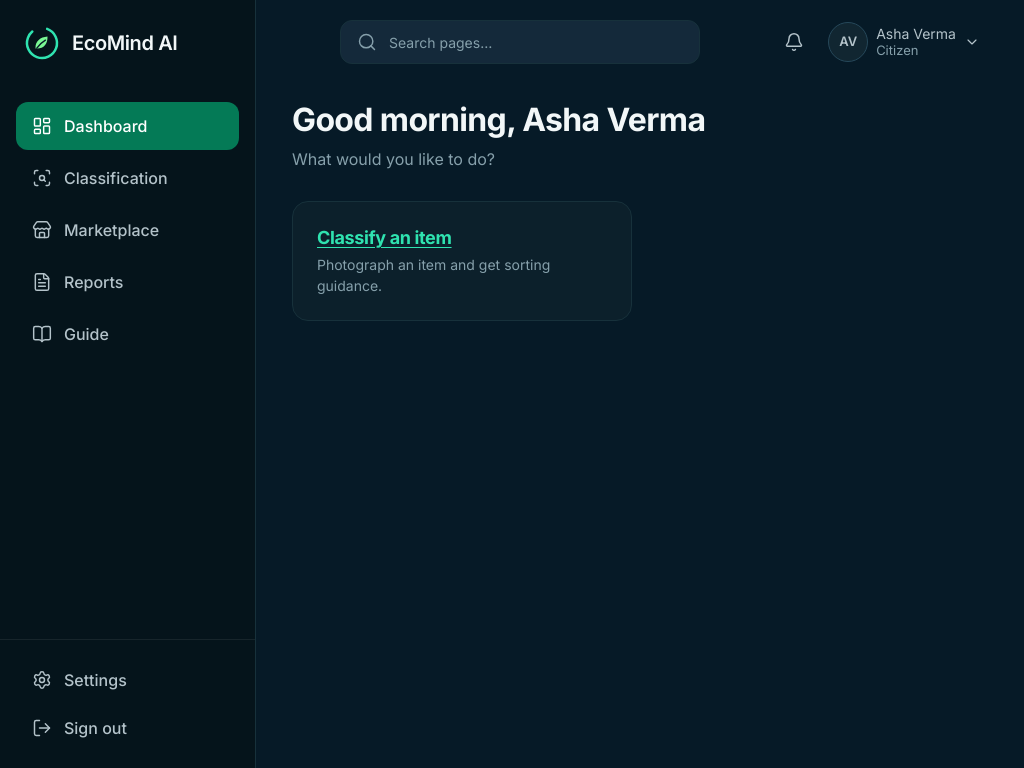
Scenario: application navigation › page search reports when nothing matches
Click the button "Search pages…": (441,42) [340,20,700,64]
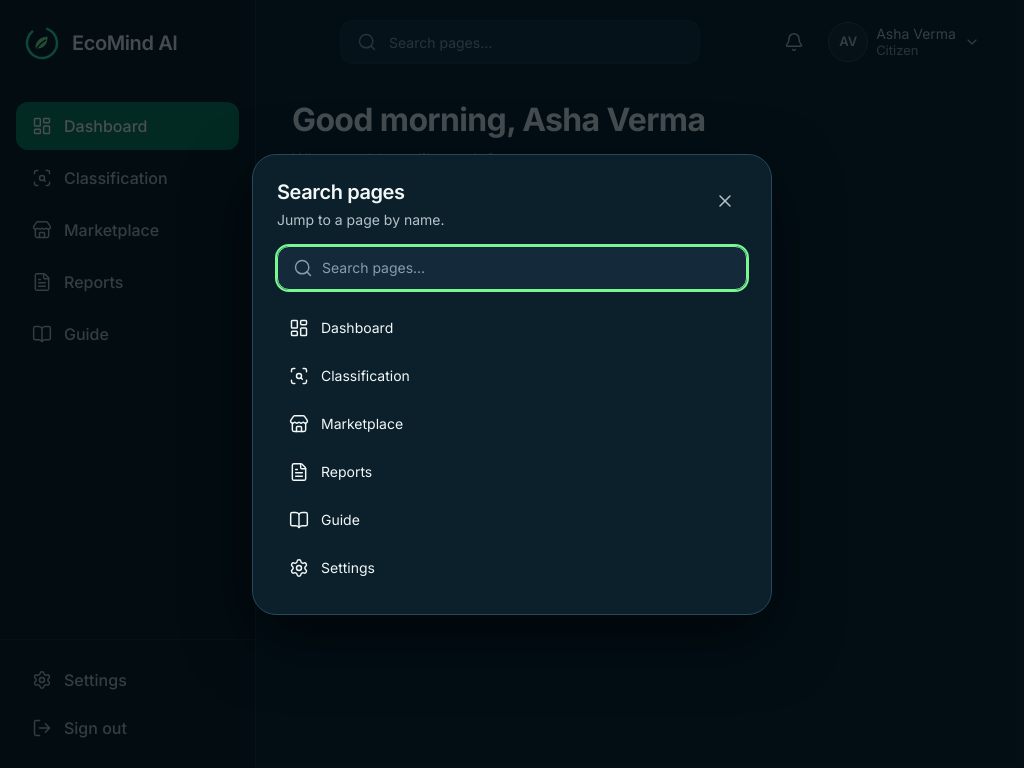
In the search field named "Page name": (512,268) [277,246,747,290], type "zzz"
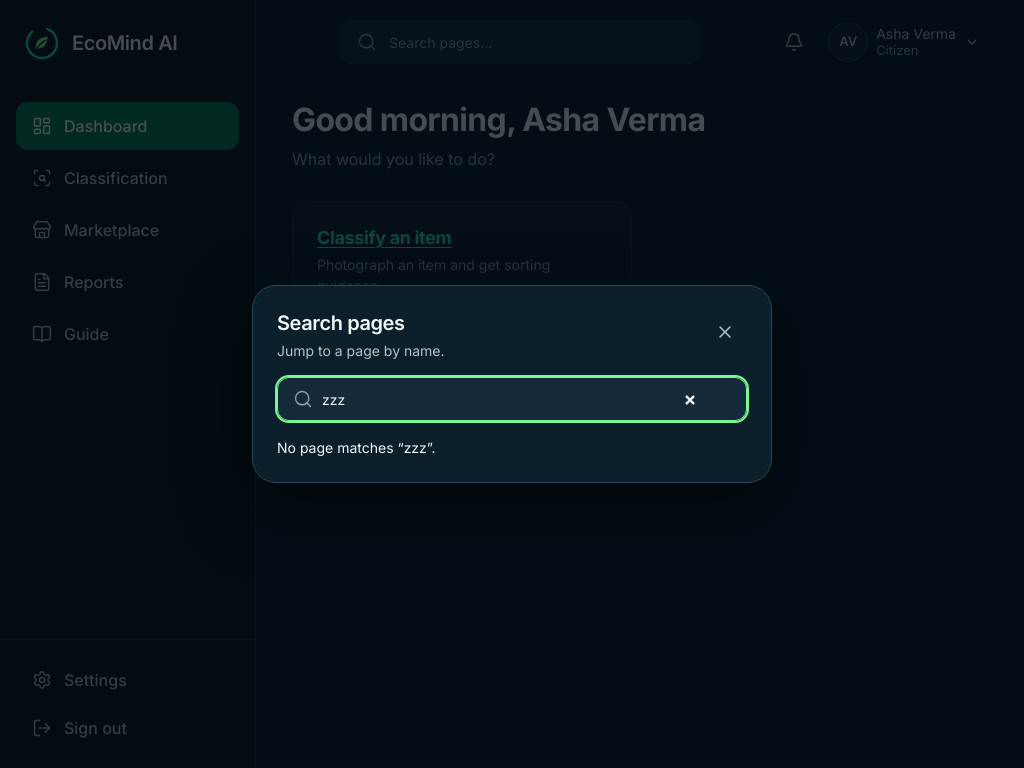
Now the message shows "No page matches", box [277,439,404,456]
